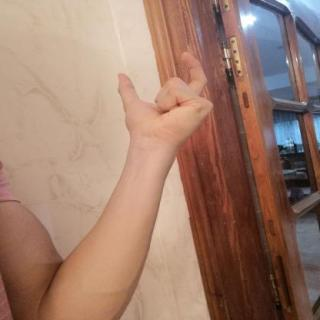NOON: (106, 45, 224, 153)
